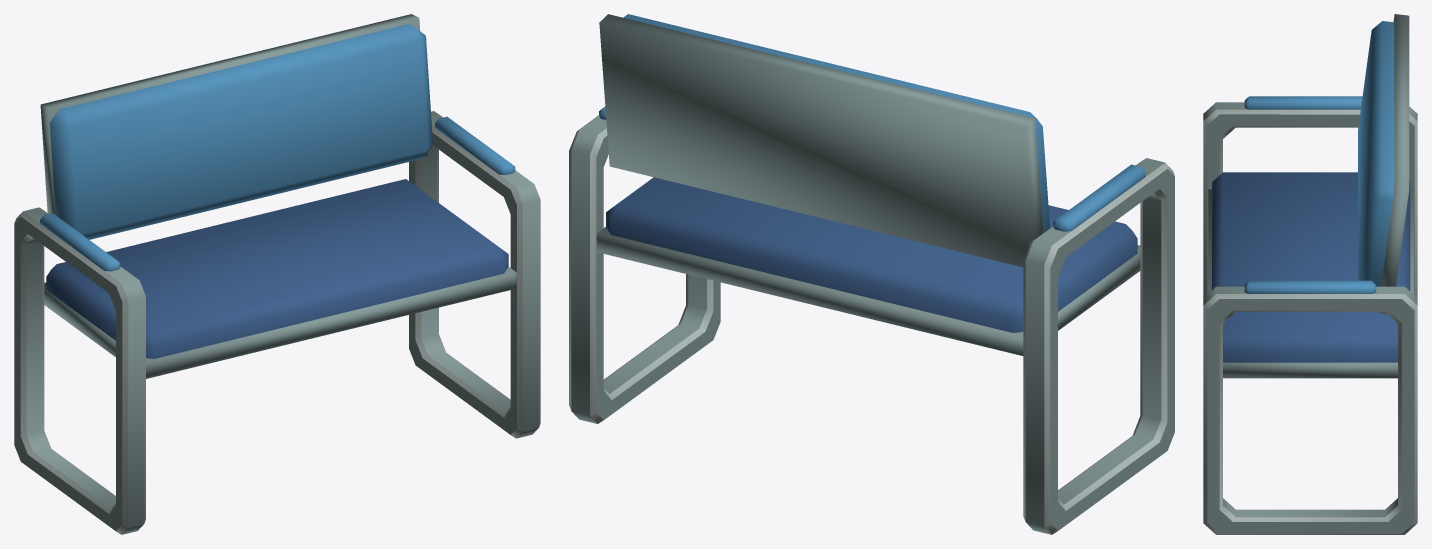
Rendered from Sofa.fbx.
3 views of the same model, side by side, from view 1: azimuth 30°, elevation 25°; view 2: azimuth 150°, elevation 25°; view 3: azimuth 270°, elevation 25° (orthographic). The views are drawn at different scales.
Visible parts, largest first — view 1: Sofa; view 2: Sofa; view 3: Sofa.
Part boxes in pixels (box(x1,y1,x2,y2)): Sofa: box(14, 14, 540, 534); Sofa: box(569, 14, 1174, 534); Sofa: box(1203, 14, 1417, 534).
Size of the model in its own units: 120 by 97.01 by 55.72.
